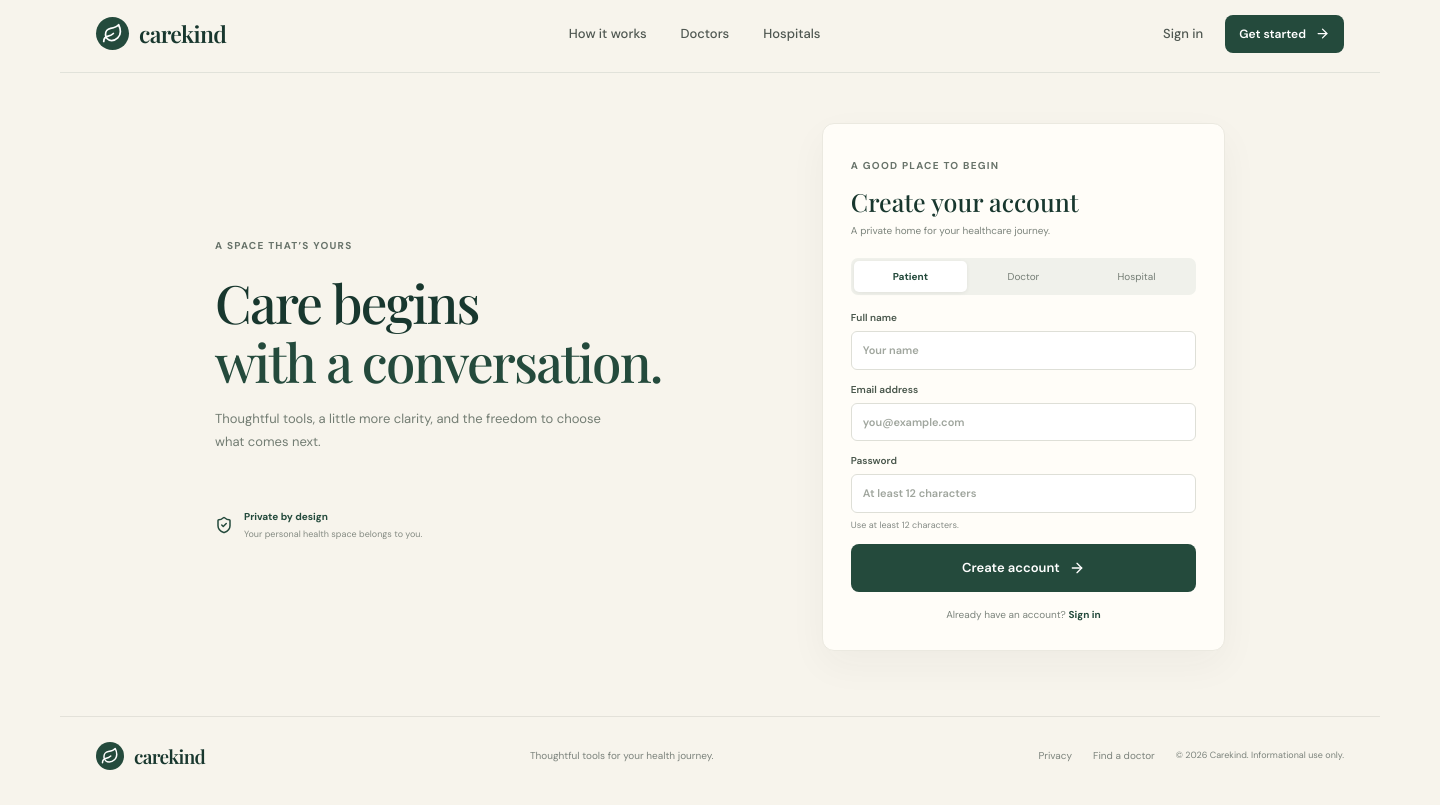
public site › renders hospital registration option and fields
This screenshot has width=1440, height=805.
Click the button "Hospital".
click(1136, 276)  # box [1080, 261, 1193, 292]
(page scrolled)
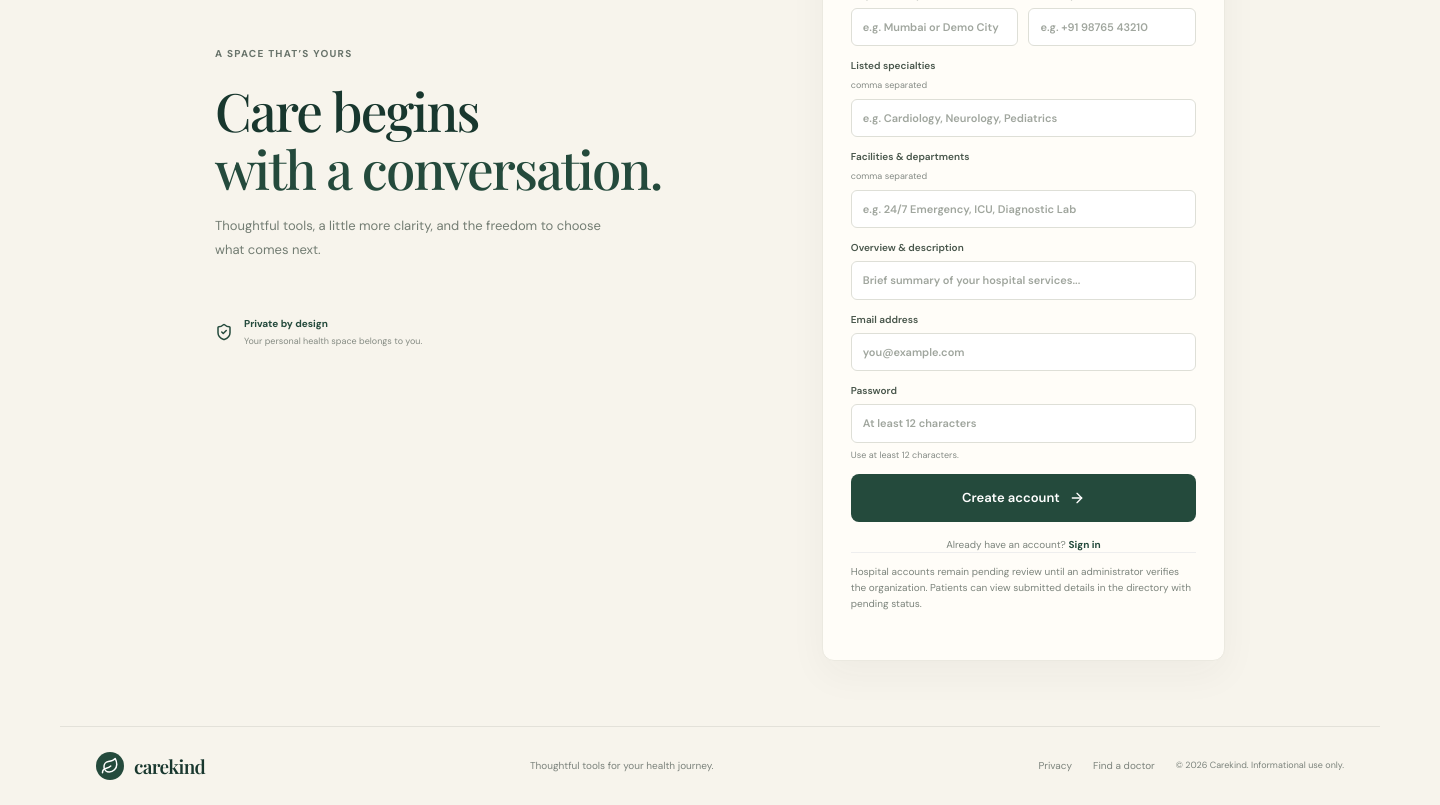
Expected: the field with placeholder "e.g. Mumbai or Demo City" is shown, [851, 8, 1018, 46]
Expected: the field with placeholder "e.g. Cardiology, Neurology, Pediatrics" is shown, [851, 98, 1196, 137]
Expected: the text "Hospital accounts remain pending review" is shown, [851, 564, 1191, 610]
